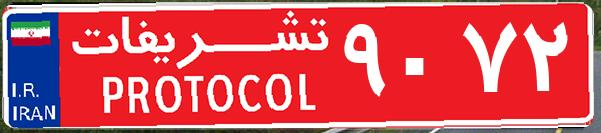0: (400, 20, 460, 115)
2: (520, 20, 580, 115)
7: (460, 20, 520, 115)
9: (340, 20, 400, 115)
تشریفات: (60, 8, 340, 125)
